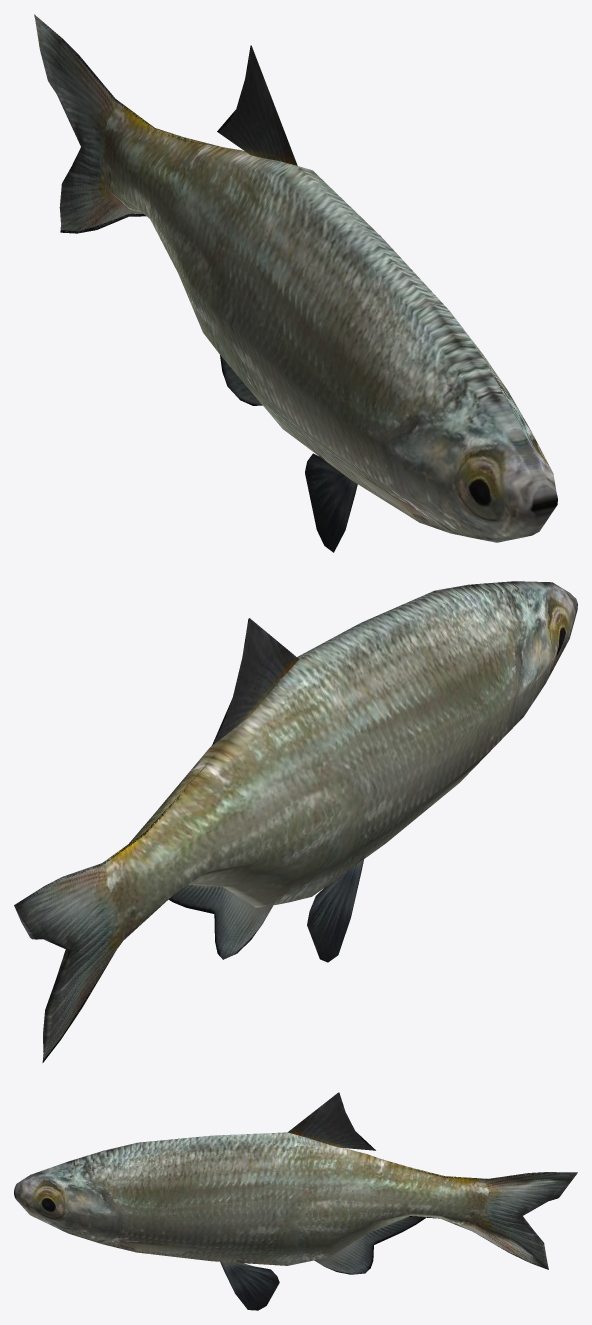
Rendered from fish1.fbx.
The picture shows the model from 3 angles, top to bottom: view 1: azimuth 30°, elevation 25°; view 2: azimuth 150°, elevation 25°; view 3: azimuth 270°, elevation 25°; orthographic projection. The views are drawn at different scales.
Visible parts, largest first — view 1: Plane.040; view 2: Plane.040; view 3: Plane.040.
Part boxes in pixels (x1=…): Plane.040: x1=34, y1=14, x2=557, y2=552; Plane.040: x1=14, y1=581, x2=577, y2=1062; Plane.040: x1=14, y1=1092, x2=577, y2=1310.
Bounding box in the file's own units: 32.25 × 85.76 × 199.
1 material, 1 textured.
